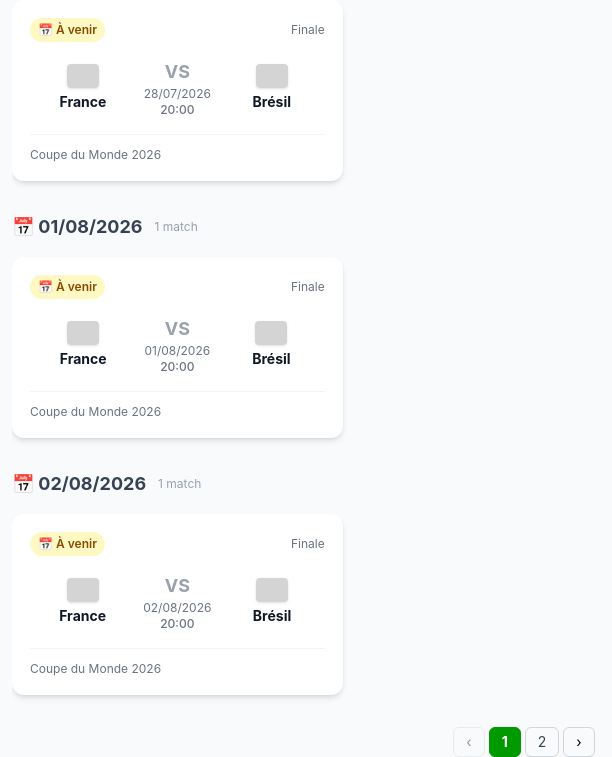
Test case: Matches — pagination › pagine au-delà de 30 matchs et change de page
(page scrolled)
Click the button "2" at (542, 742), box [525,727,559,756]
(page scrolled)
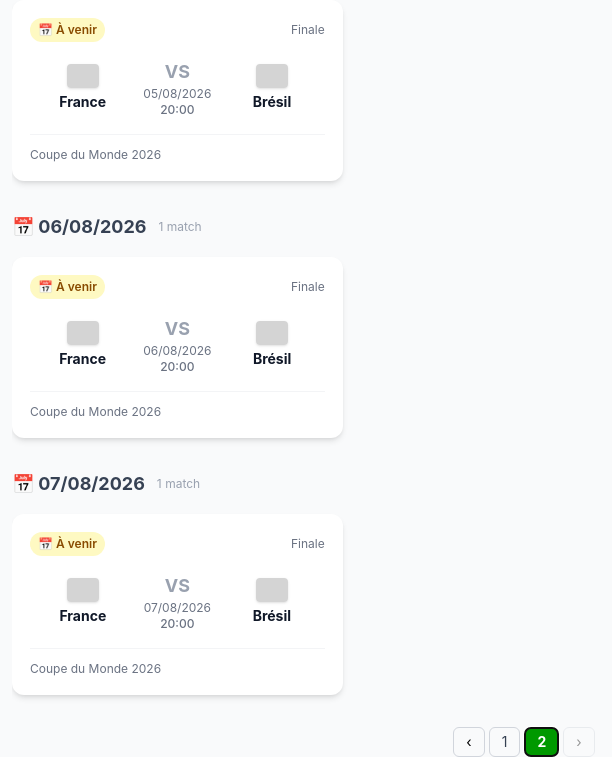
expect the text "France" is shown 5 times: met
